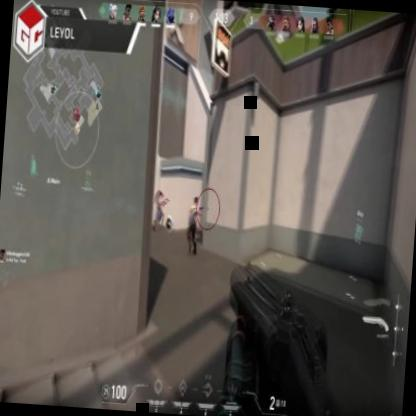enemy: (187, 195, 203, 256), (153, 190, 166, 230)
enemy_head: (194, 196, 198, 205), (158, 192, 162, 198)
